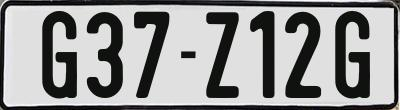1: (250, 9, 275, 101)
2: (284, 10, 324, 102)
3: (85, 12, 121, 104)
7: (131, 10, 167, 100)
G: (333, 9, 370, 102), (42, 11, 78, 100)
Z: (205, 10, 243, 98)
